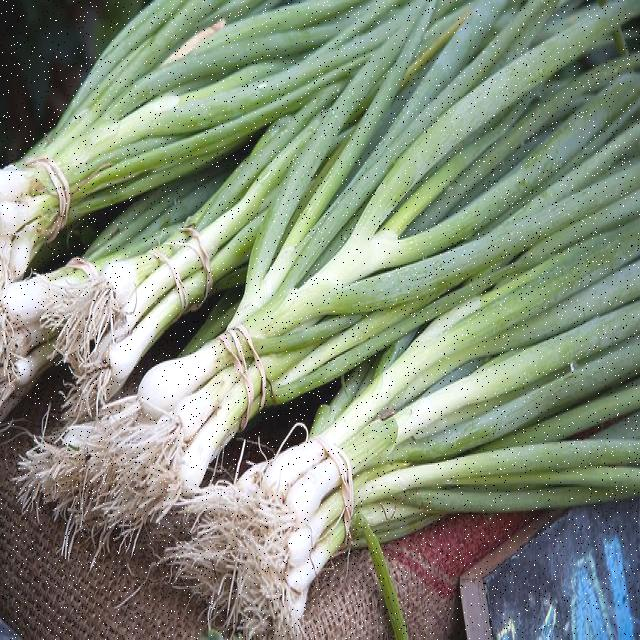Onion Leaves: (141, 6, 640, 297)
